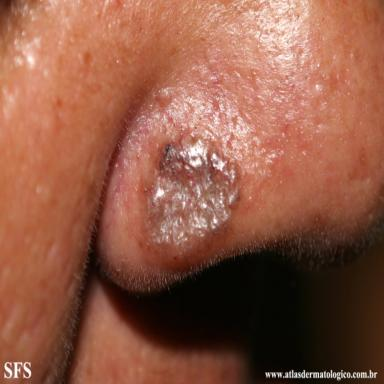basal-cell-carcinoma: (140, 136, 243, 259)
